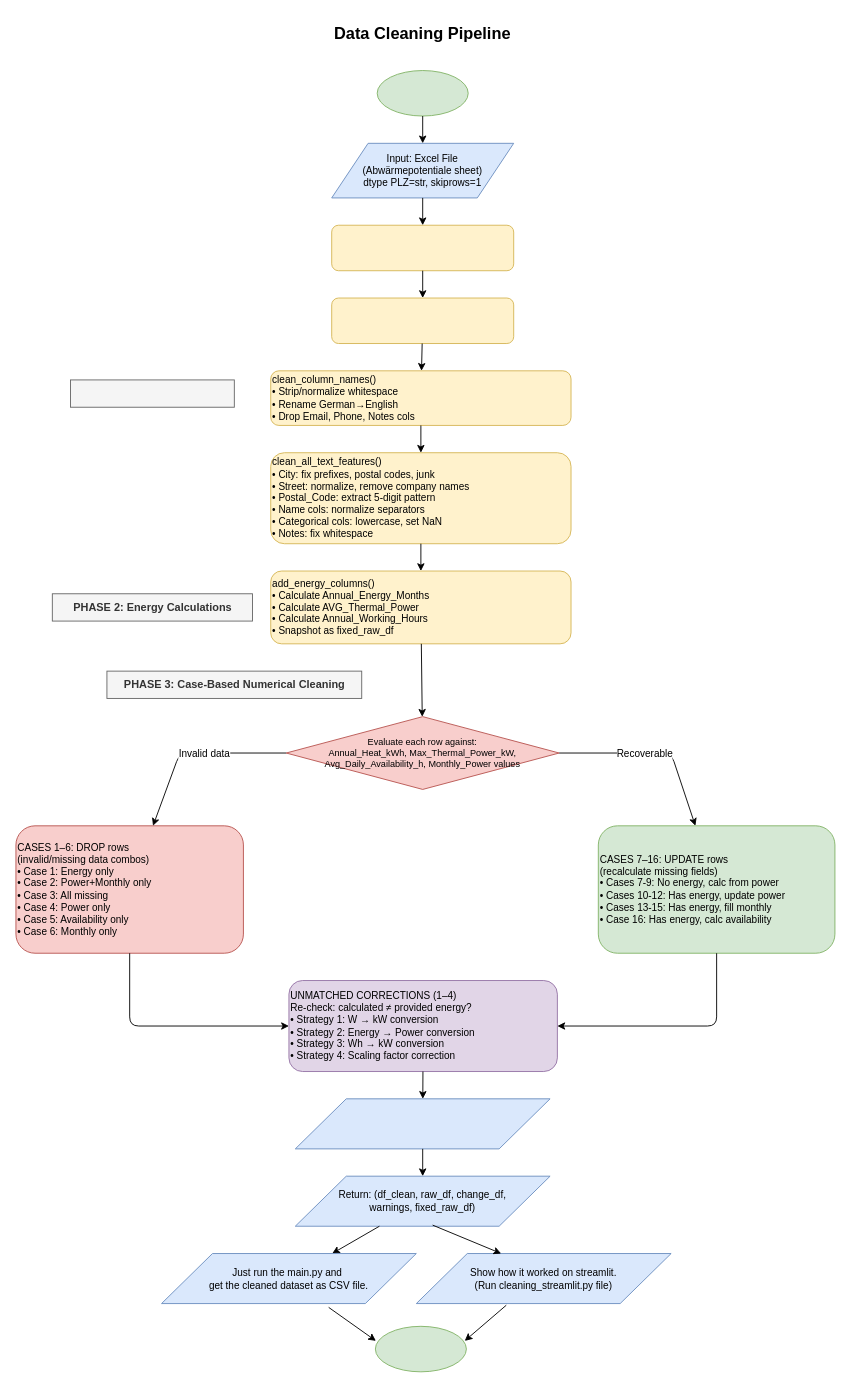
The diagram is 851 pixels wide and 1388 high, and some of its shapes have lost their labels. Here are the shapes that lost their labels. From the top down, the box of each, then its label:
(376, 70, 468, 116): START
(331, 224, 514, 271): Add Original_Excel_Row tracking column
(331, 297, 514, 344): Save raw_df copy (for baseline comparison)
(70, 379, 234, 407): PHASE 1: Text Cleaning
(294, 1098, 550, 1149): Compile changelog DataFrame (all modifications logged with prev/new values)
(374, 1325, 466, 1372): END
